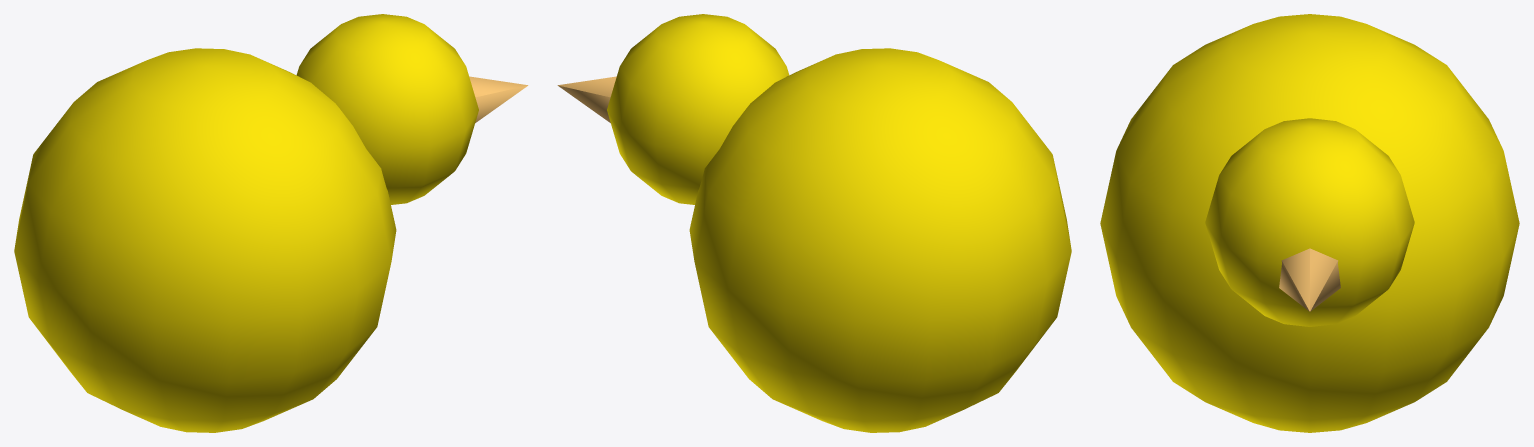
Rendered from hat_chicken.glb.
3 renders of one model, left to right at view 1: azimuth 30°, elevation 25°; view 2: azimuth 150°, elevation 25°; view 3: azimuth 270°, elevation 25°, orthographic. The views are drawn at different scales.
Parts seen in each view (by area): view 1: hat_chicken; view 2: hat_chicken; view 3: hat_chicken.
Boxes of the visible parts, x1,y1,x2,y2 form: hat_chicken: (14, 14, 528, 432); hat_chicken: (557, 14, 1071, 432); hat_chicken: (1100, 14, 1519, 432).
Size of the model in its own units: 0.47 by 0.32 by 0.32.
